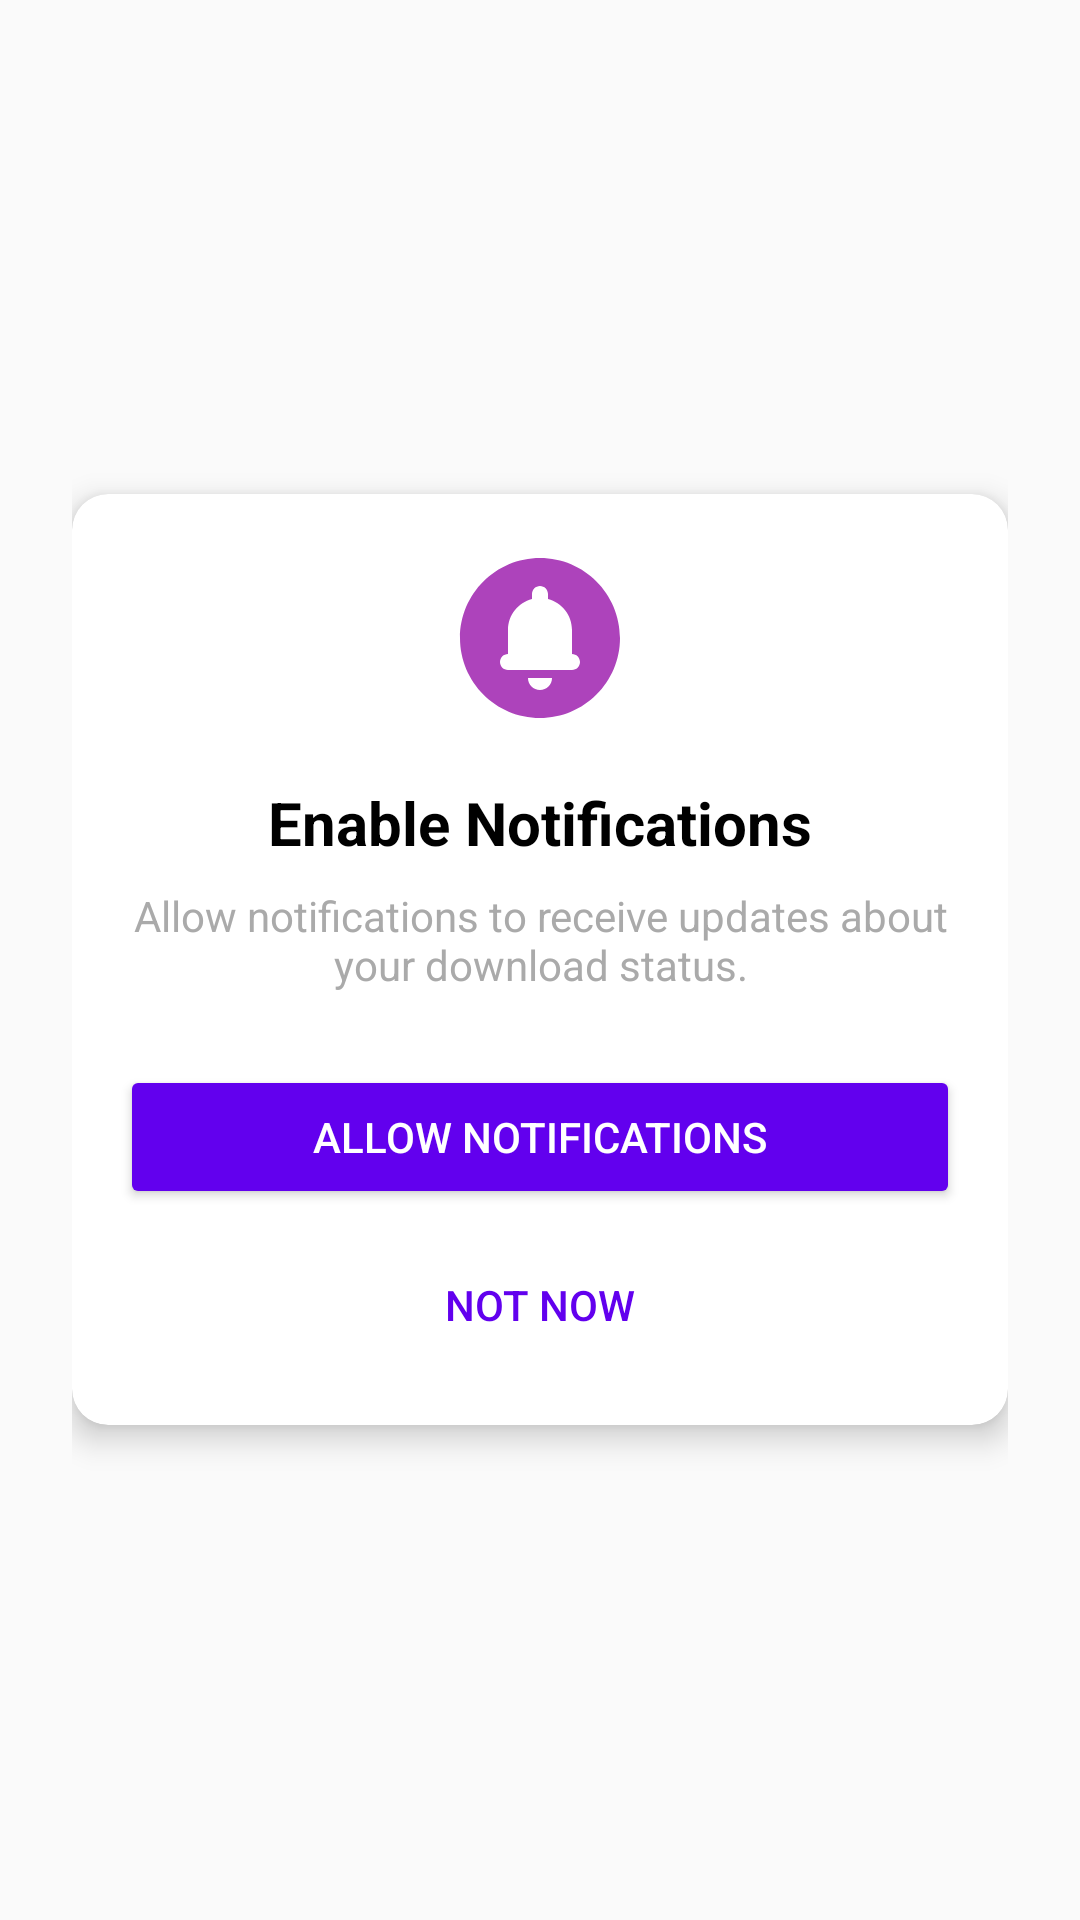

Point at icon controls on the screen. Image size 1080×1920, points as [x,y].
Notification Icon: [540,638]
